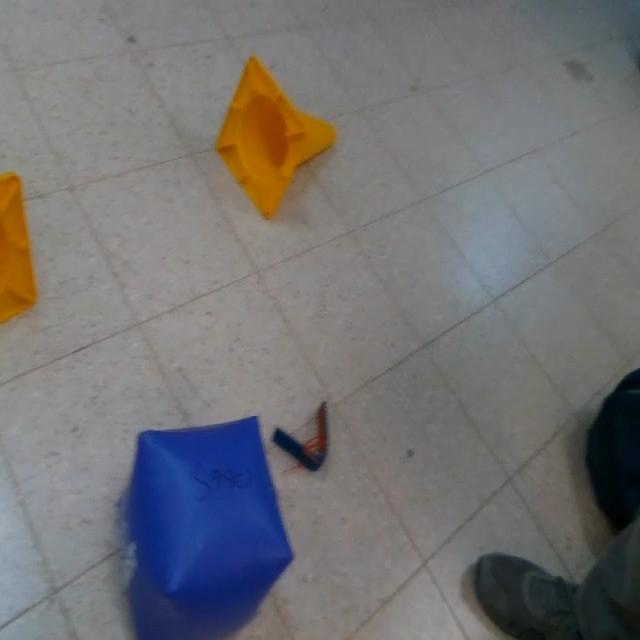cone: (218, 60, 340, 215), (0, 165, 35, 322)
cube: (122, 411, 296, 640)
